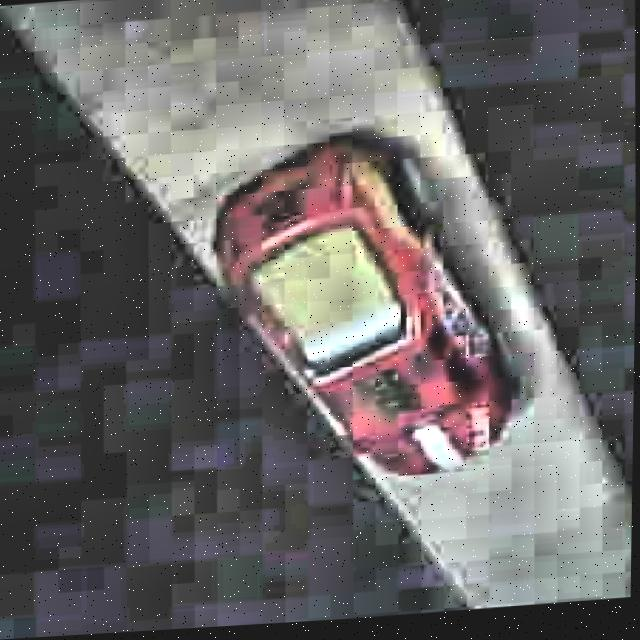car: (203, 115, 526, 495)
